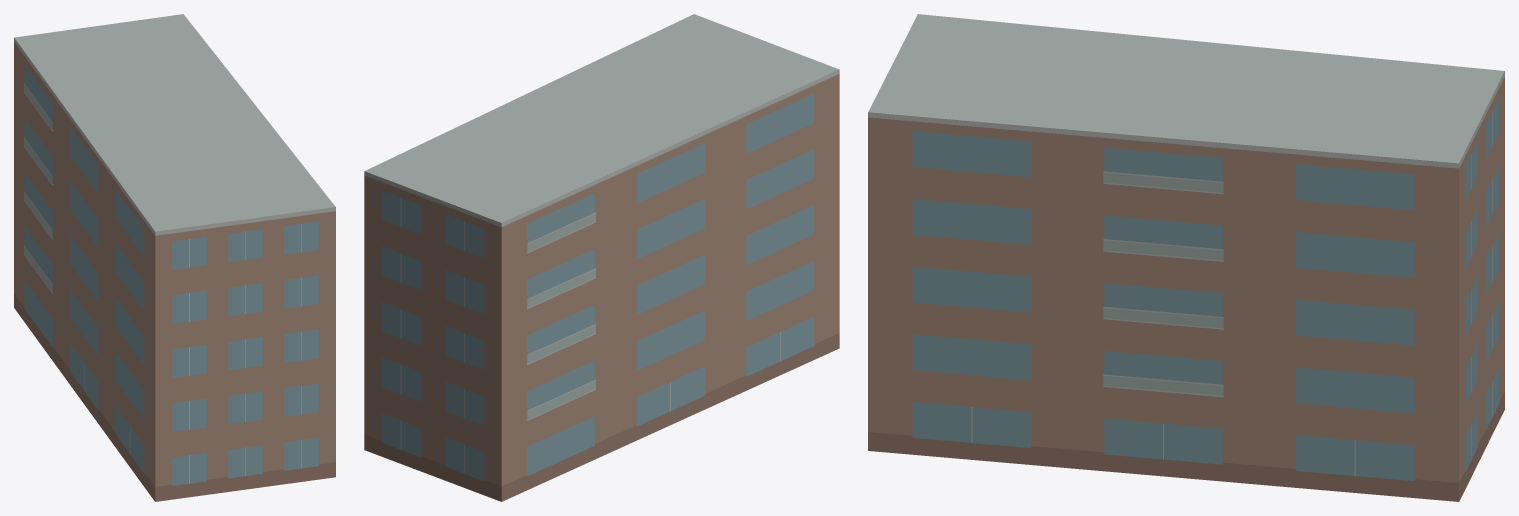
File: survey-upis-32782214.glb
3 views of the same model, side by side, from view 1: azimuth 30°, elevation 25°; view 2: azimuth 150°, elevation 25°; view 3: azimuth 270°, elevation 25° (orthographic). The views are drawn at different scales.
Visible parts, largest first — view 1: survey-upis-32782214.tmp; view 2: survey-upis-32782214.tmp; view 3: survey-upis-32782214.tmp.
Part boxes in pixels (x1,y1,x2,y2): survey-upis-32782214.tmp: (14, 14, 335, 501); survey-upis-32782214.tmp: (364, 14, 839, 501); survey-upis-32782214.tmp: (868, 14, 1504, 501).
Size of the model in its own units: 15.01 by 15.85 by 27.03.
